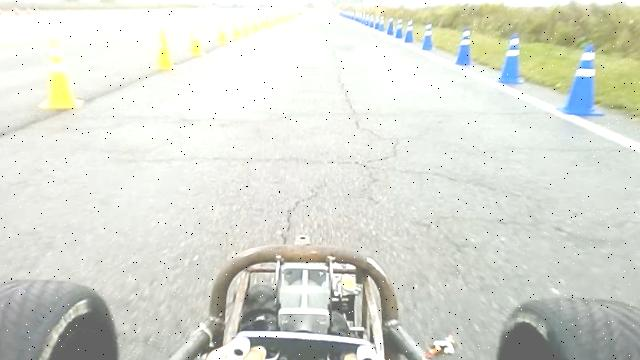blue cone: (556, 42, 605, 117), (497, 32, 525, 84), (454, 27, 473, 66), (421, 22, 435, 51), (404, 20, 415, 43), (394, 18, 404, 39)
yellow cone: (39, 40, 84, 110), (152, 27, 178, 70), (187, 22, 205, 56), (217, 16, 230, 45), (232, 16, 243, 40), (242, 16, 252, 36)
